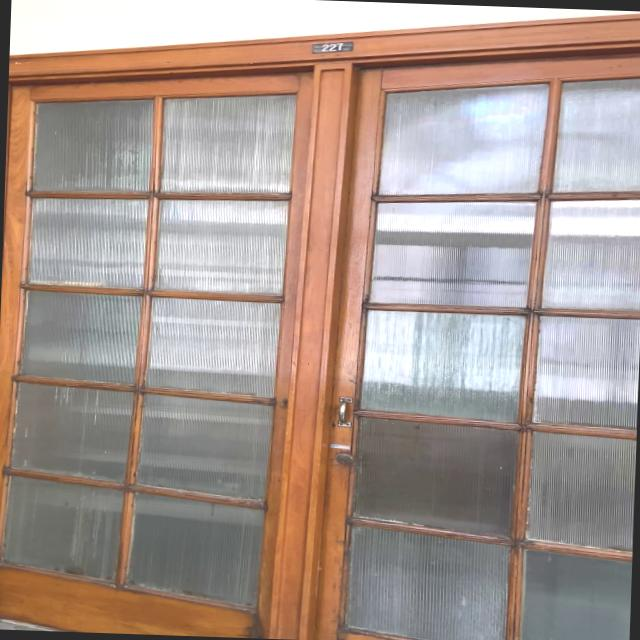room227: (310, 38, 354, 56)
